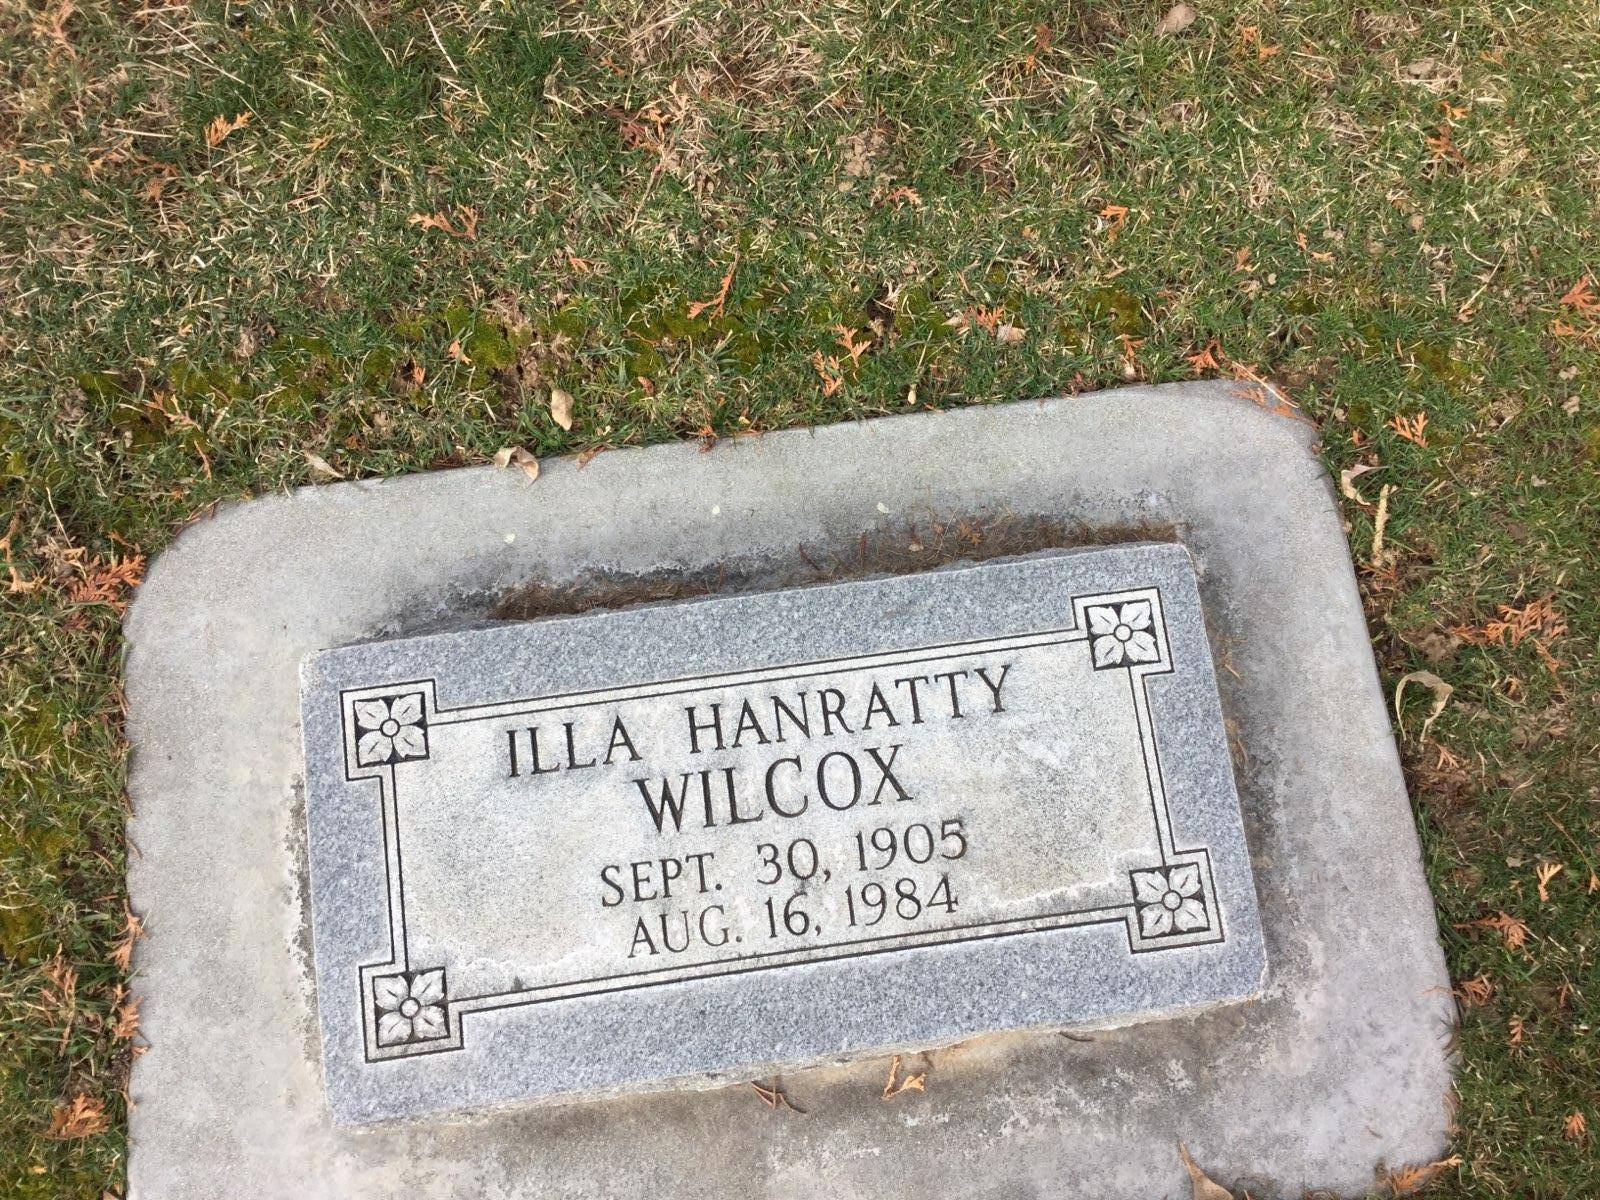flat: (299, 538, 1283, 1142)
